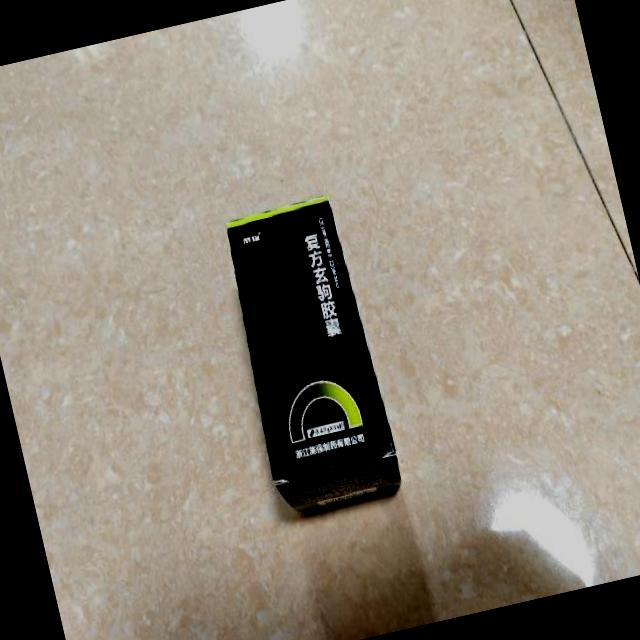box: (214, 193, 404, 518)
